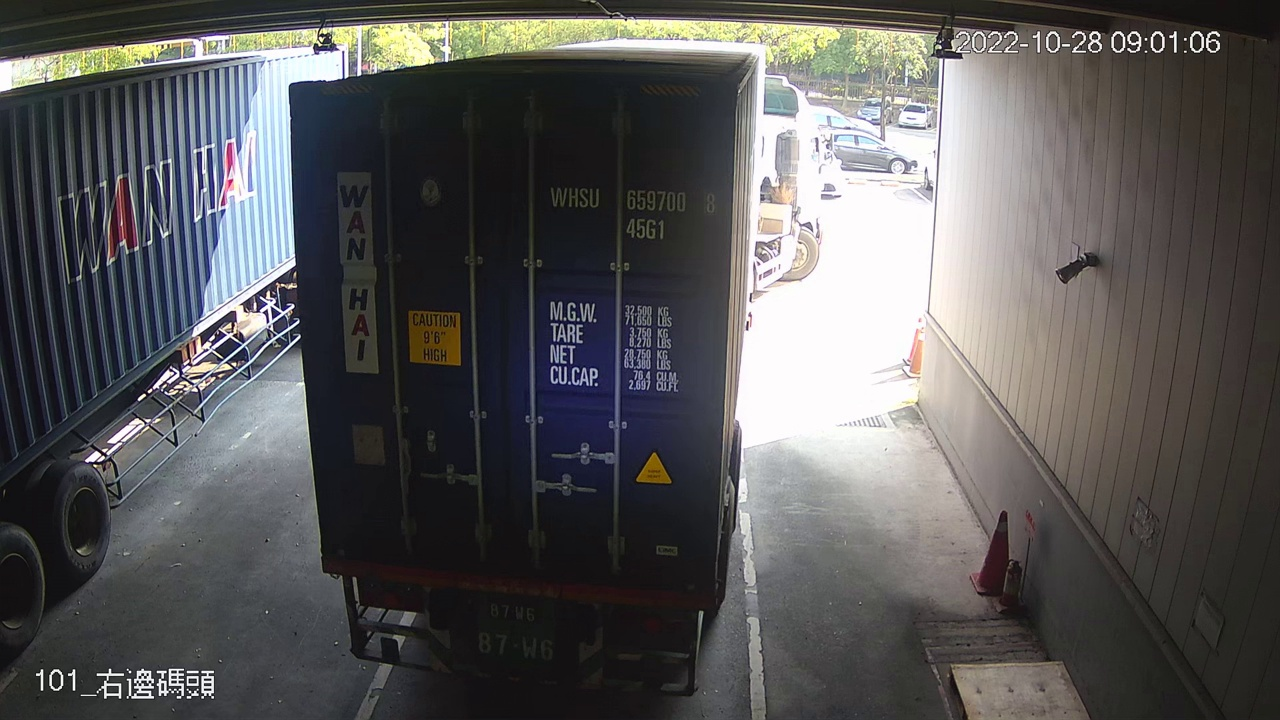container: (545, 178, 724, 246)
